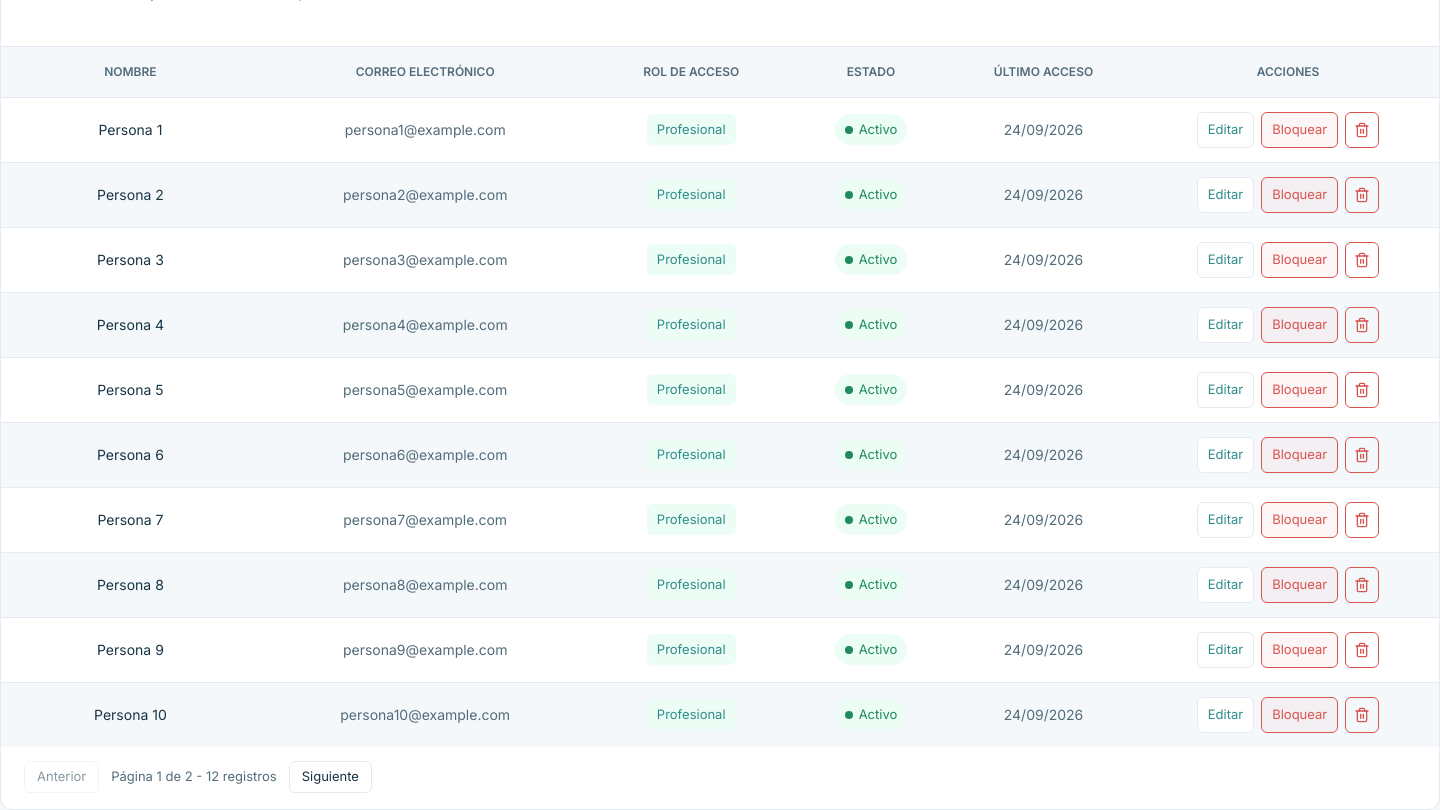
Test: Detalle de usuario › abre con teclado, muestra los cinco campos y conserva la página y el foco al cerrar
(page scrolled)
Expected: the button with aria-label "Ver detalle de Persona 1" is shown, [98,117,162,142]
Click the button "Siguiente". click: coordinates (330, 777)
box: [289,760,372,793]
(page scrolled)
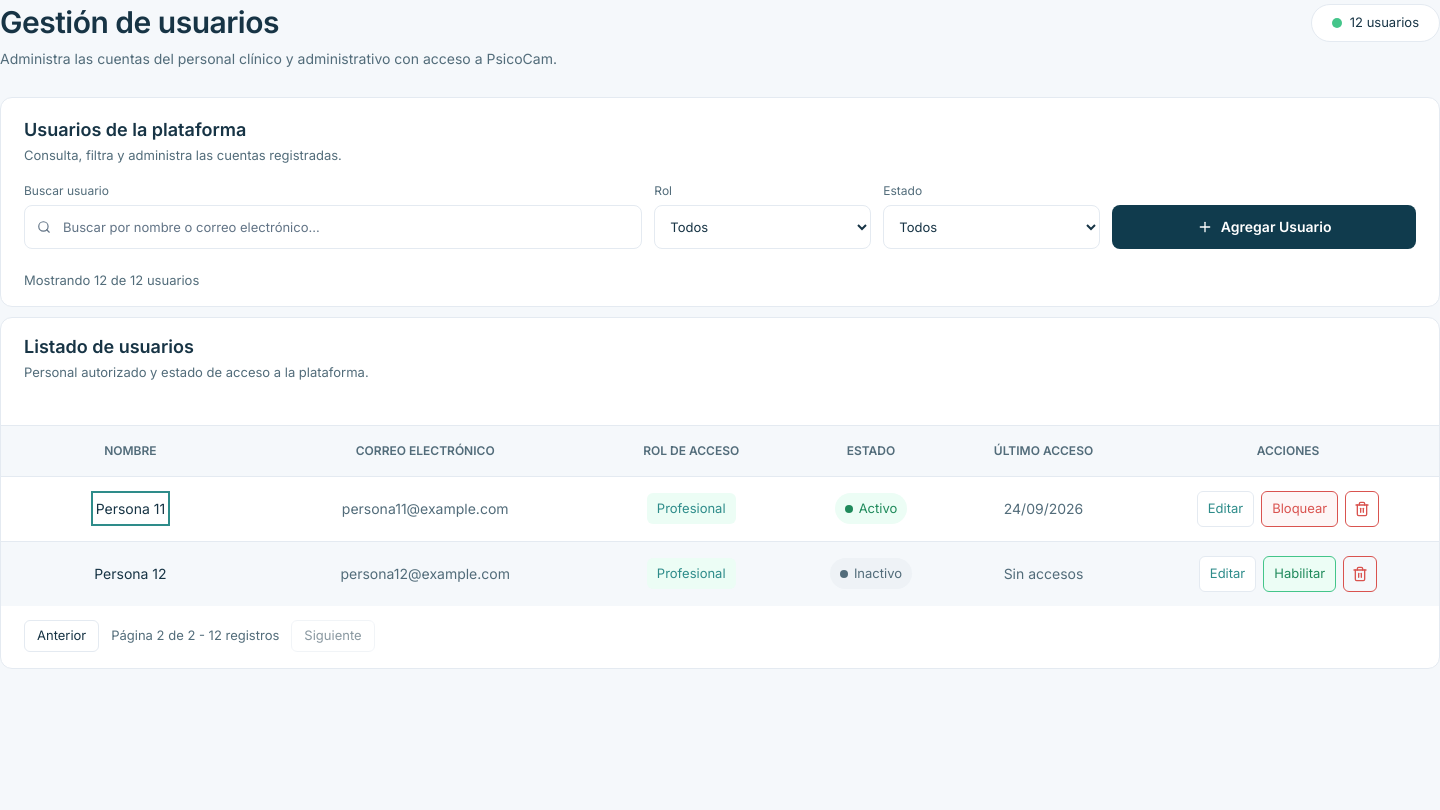
Press Enter
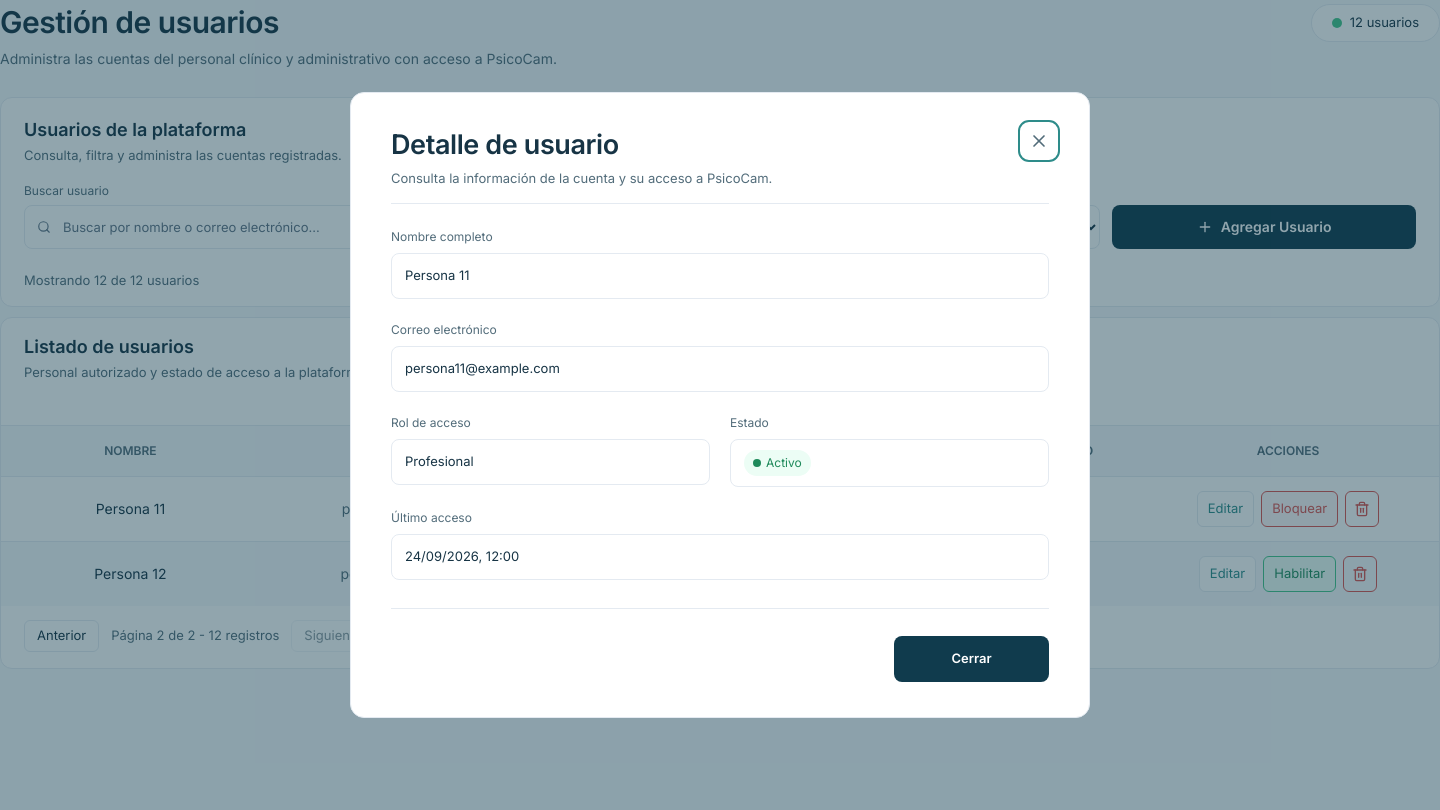
Now the text "Persona 11" is shown, box [391,253,1049,299]
Now the text "persona11@example.com" is shown, box [391,346,1049,392]
Now the text "Profesional" is shown, box [391,439,710,485]
Click the button "Cerrar". click: coordinates (972, 659)
box: [894,636,1049,682]
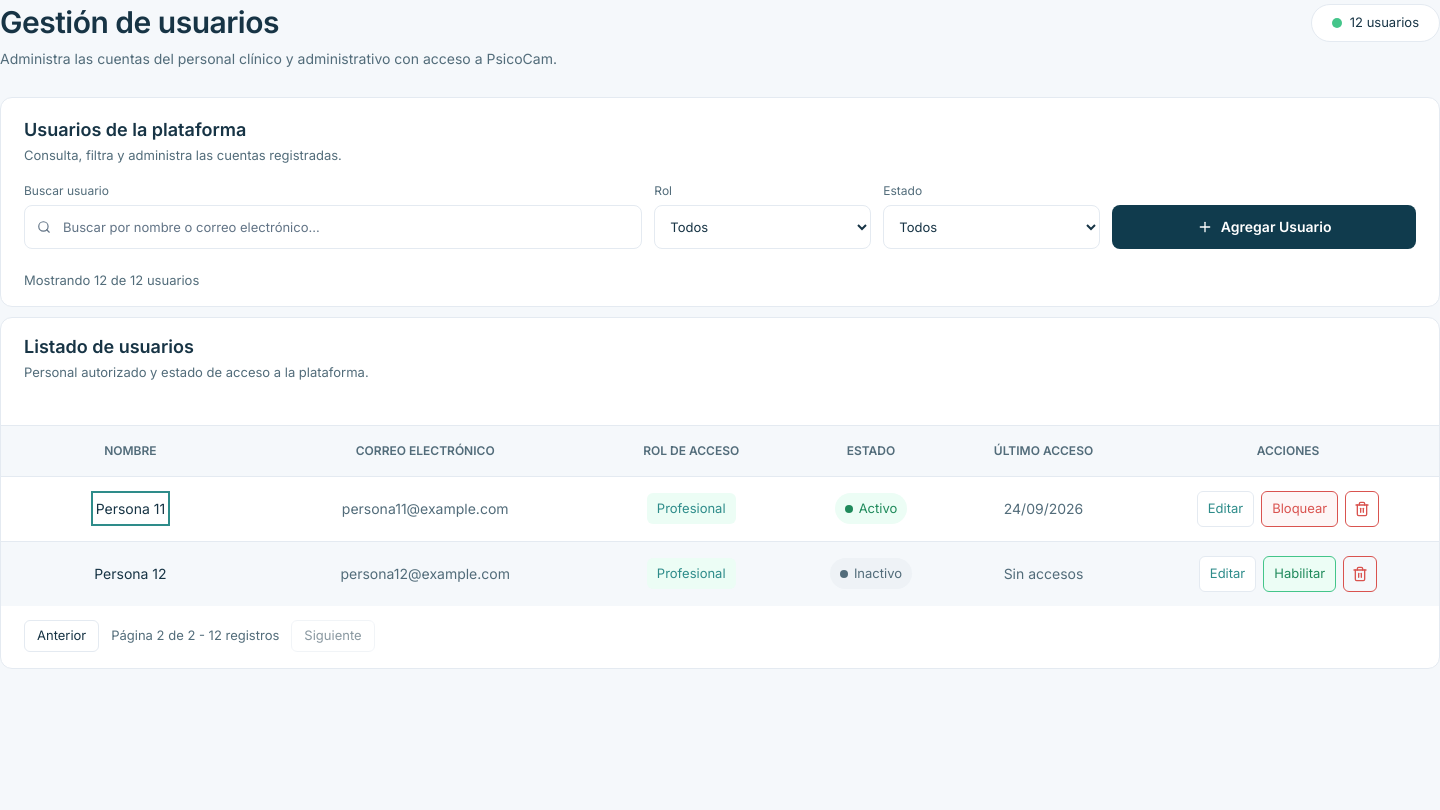
Now the text "Página 2 de 2 - 12 registros" is shown, box [111,626,279,646]
Now the dialog is gone
